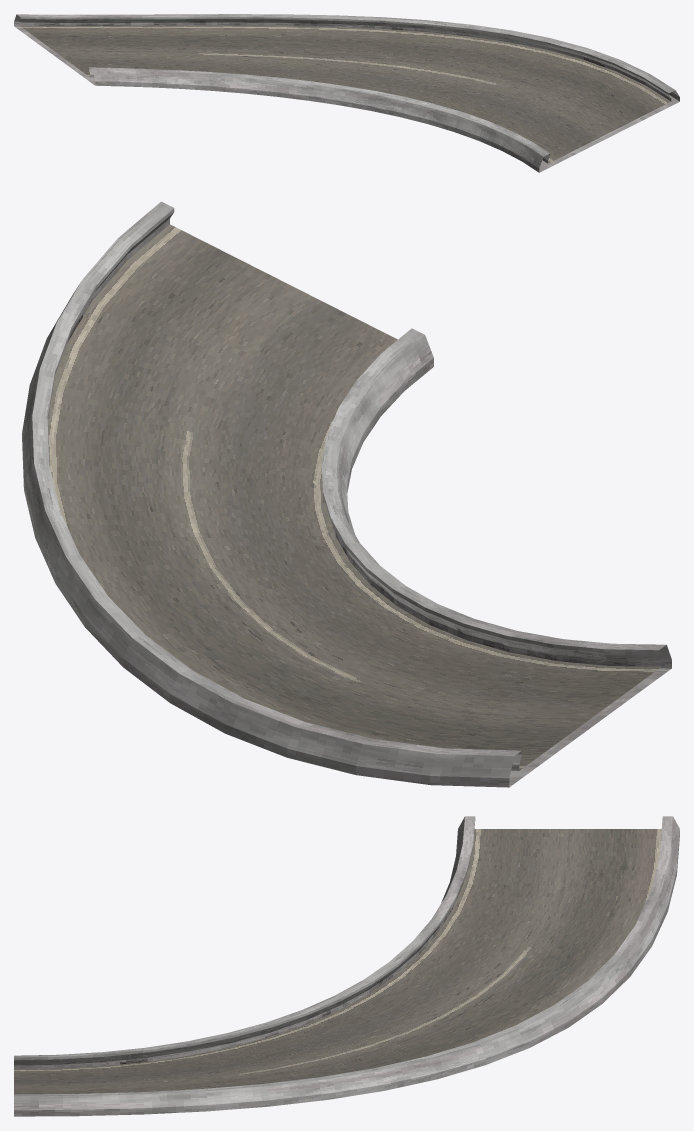
File: turn-left3x3.glb
3 renders of one model, top to bottom at view 1: azimuth 30°, elevation 25°; view 2: azimuth 150°, elevation 25°; view 3: azimuth 270°, elevation 25°, orthographic. The views are drawn at different scales.
Visible parts, largest first — view 1: road-Turn-HalfBankedLeft-BiSlopeUp-Up1-Left-Size3; view 2: road-Turn-HalfBankedLeft-BiSlopeUp-Up1-Left-Size3; view 3: road-Turn-HalfBankedLeft-BiSlopeUp-Up1-Left-Size3.
Boxes of the visible parts, bbox=[...] form: road-Turn-HalfBankedLeft-BiSlopeUp-Up1-Left-Size3: bbox=[14, 14, 679, 172]; road-Turn-HalfBankedLeft-BiSlopeUp-Up1-Left-Size3: bbox=[22, 201, 671, 787]; road-Turn-HalfBankedLeft-BiSlopeUp-Up1-Left-Size3: bbox=[14, 816, 679, 1116].
Bounding box in the file's own units: 3 × 0.3444 × 3.
2 materials, 2 textured.
